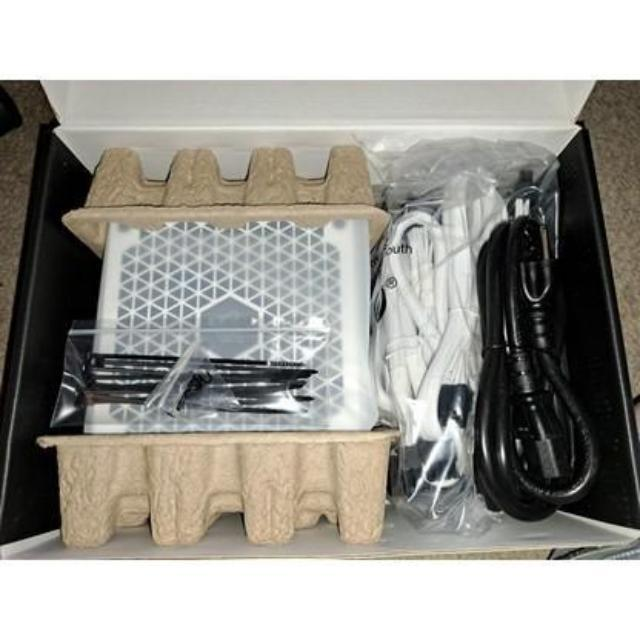PSU: (79, 194, 376, 477)
